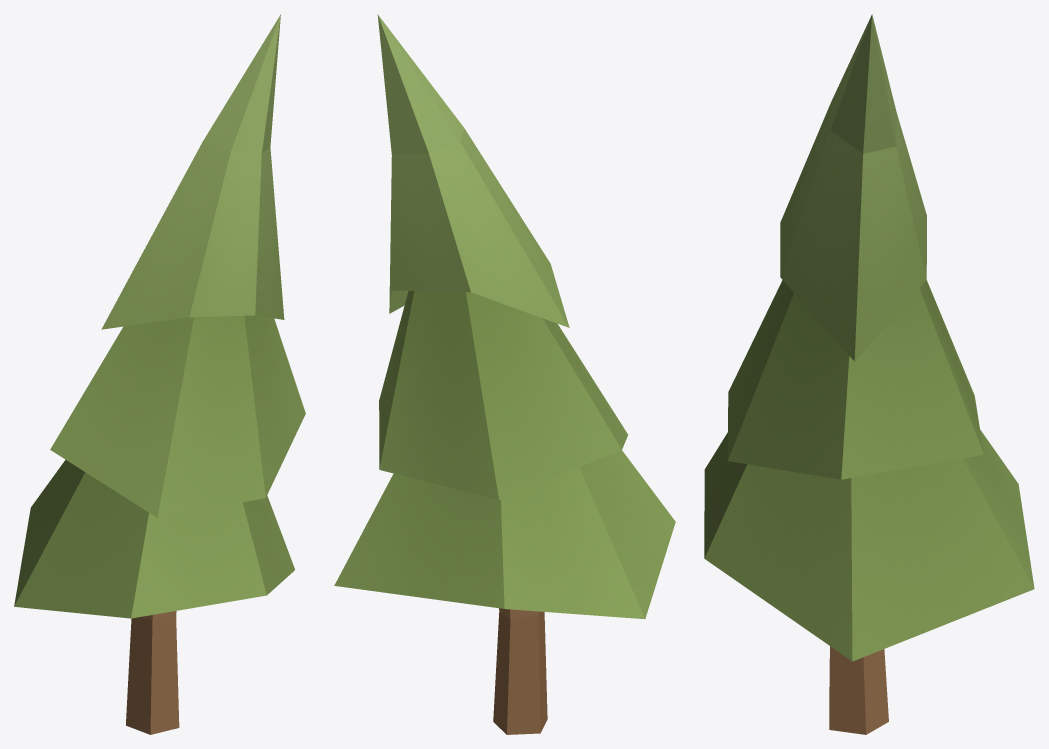
Rendered from Pine_Tree_OneSided_s_05.fbx.
The picture shows the model from 3 angles, left to right: view 1: azimuth 30°, elevation 25°; view 2: azimuth 150°, elevation 25°; view 3: azimuth 270°, elevation 25°; orthographic projection. The views are drawn at different scales.
Parts seen in each view (by area): view 1: Pine_Tree_OneSided_s_05; view 2: Pine_Tree_OneSided_s_05; view 3: Pine_Tree_OneSided_s_05.
Boxes of the visible parts, <box> form: Pine_Tree_OneSided_s_05: <box>14,14,305,734</box>; Pine_Tree_OneSided_s_05: <box>334,14,675,734</box>; Pine_Tree_OneSided_s_05: <box>704,14,1034,734</box>.
Bounding box in the file's own units: 129 × 299 × 114.
